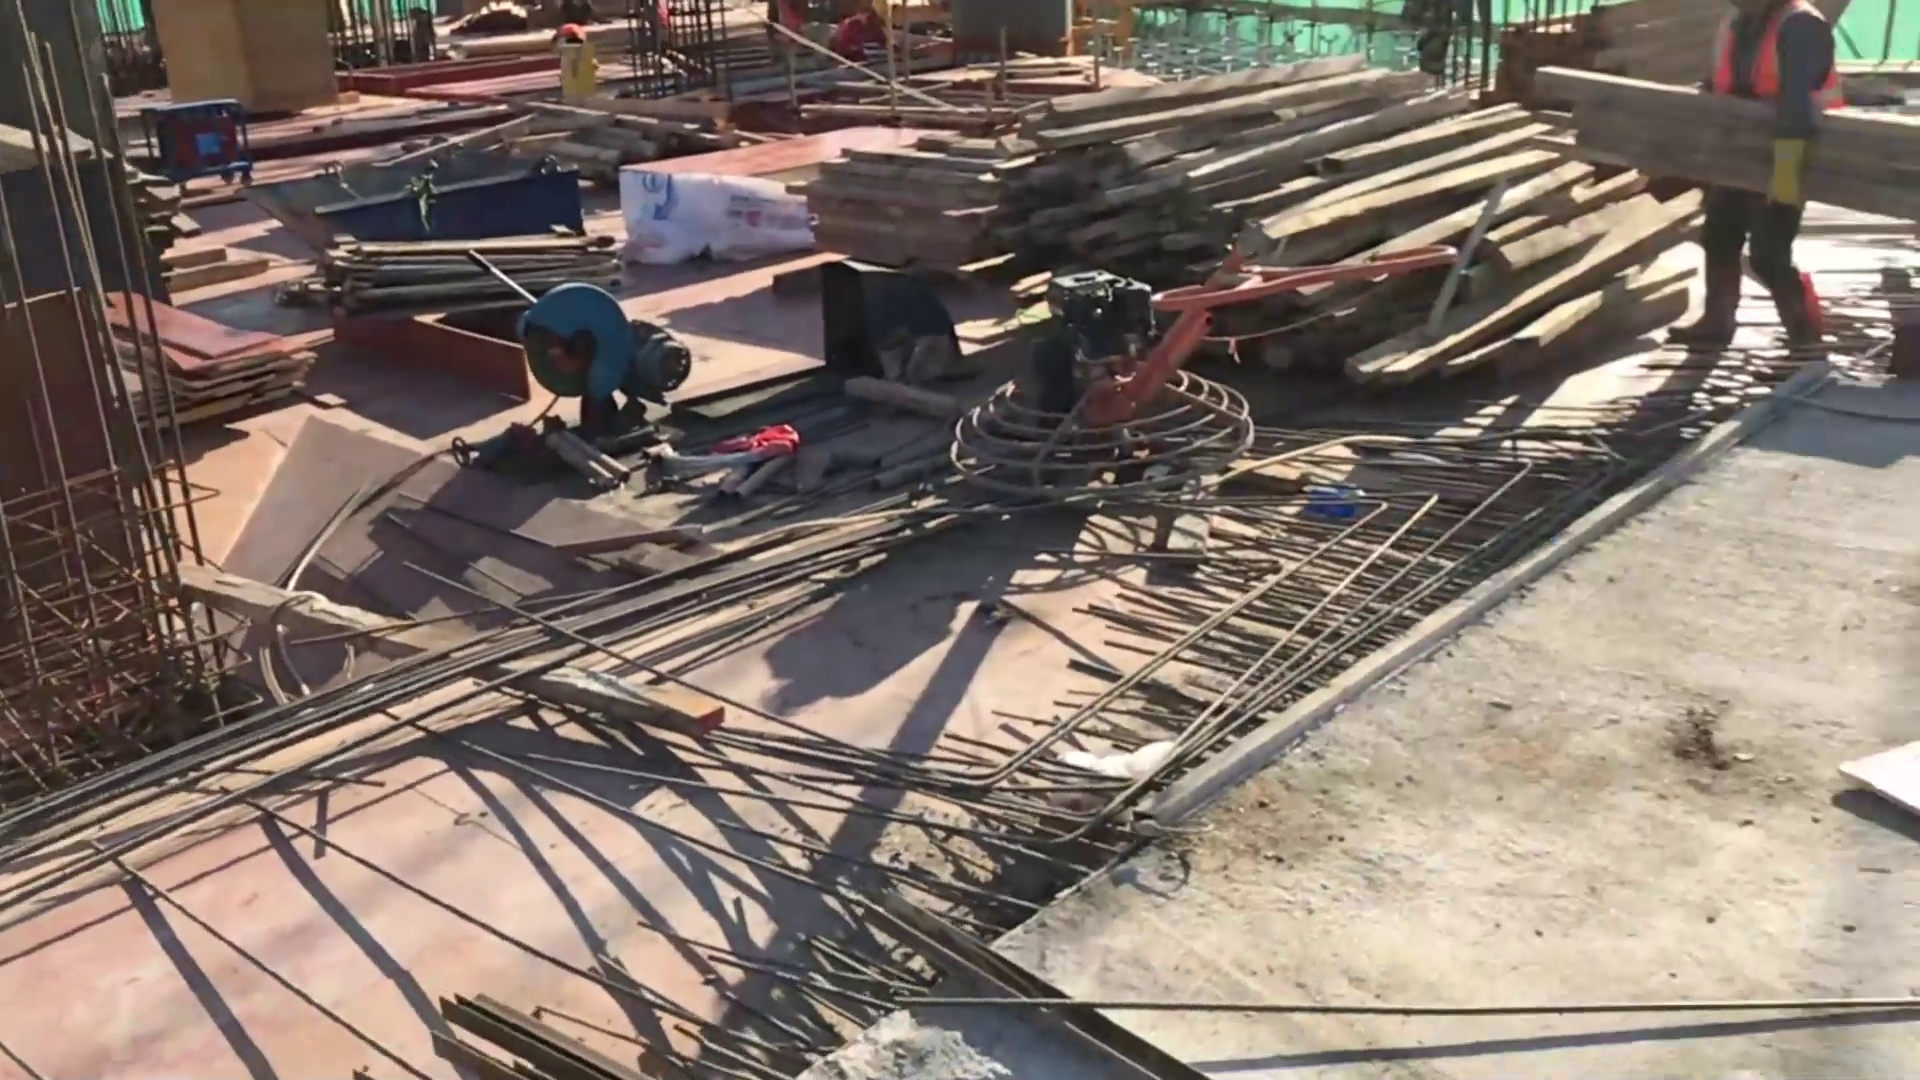board: (148, 304, 313, 412), (331, 239, 615, 293)
person: (1683, 1, 1844, 350)
rebar: (988, 89, 1674, 381)
wood: (802, 133, 1001, 272)
